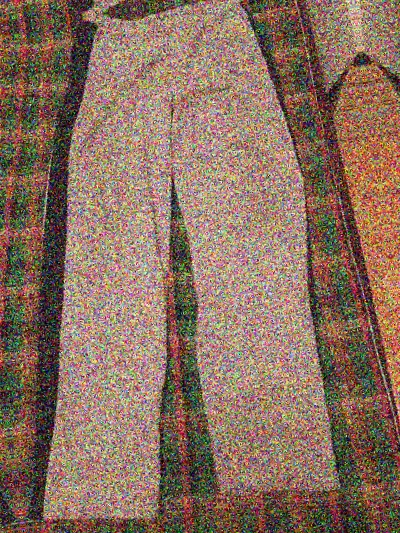Pants: (0, 0, 367, 533), (0, 0, 291, 25), (0, 46, 3, 533)
